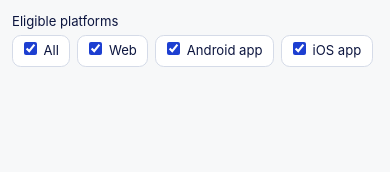
Test: CheckAllChips › follows the options: one unticked clears All, the last ticked sets it
Click the checkbox labelled "iOS app": click(299, 49) left=292, top=42, right=306, bottom=55
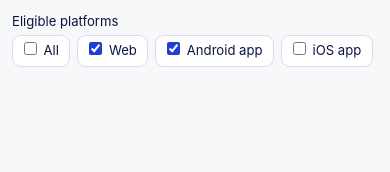
Check: the checkbox labelled "All" is not checked, box left=24, top=42, right=36, bottom=55
Click the checkbox labelled "iOS app": click(299, 49) left=292, top=42, right=306, bottom=55
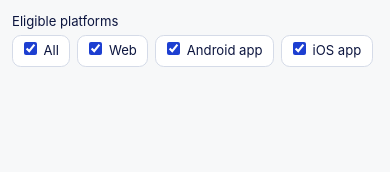
Check: the checkbox labelled "All" is checked, box left=24, top=42, right=36, bottom=55
